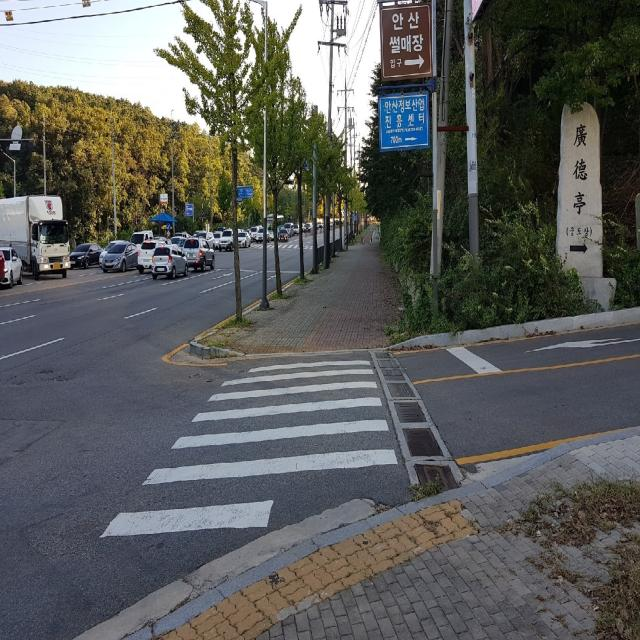횡단보도: (98, 358, 399, 540)
